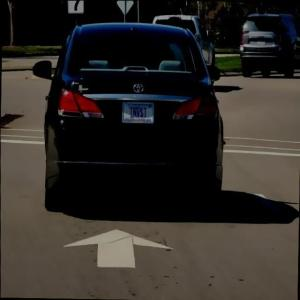Plate: (121, 101, 154, 124)
